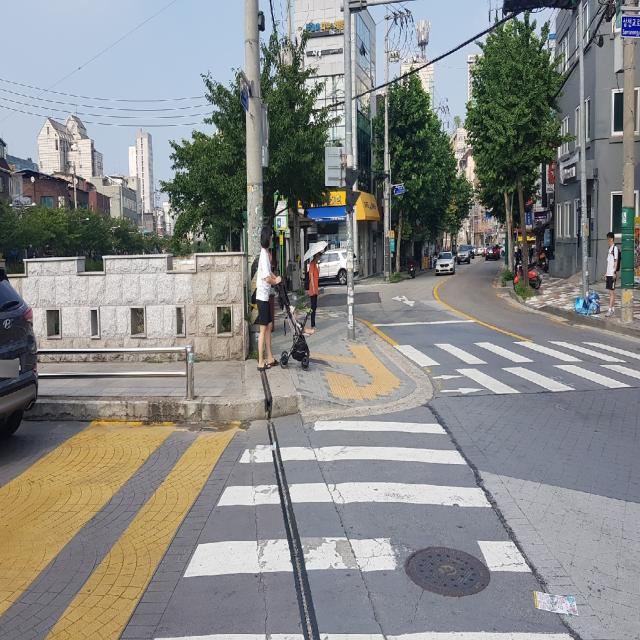횡단보도: (154, 421, 574, 640), (393, 332, 640, 391)
